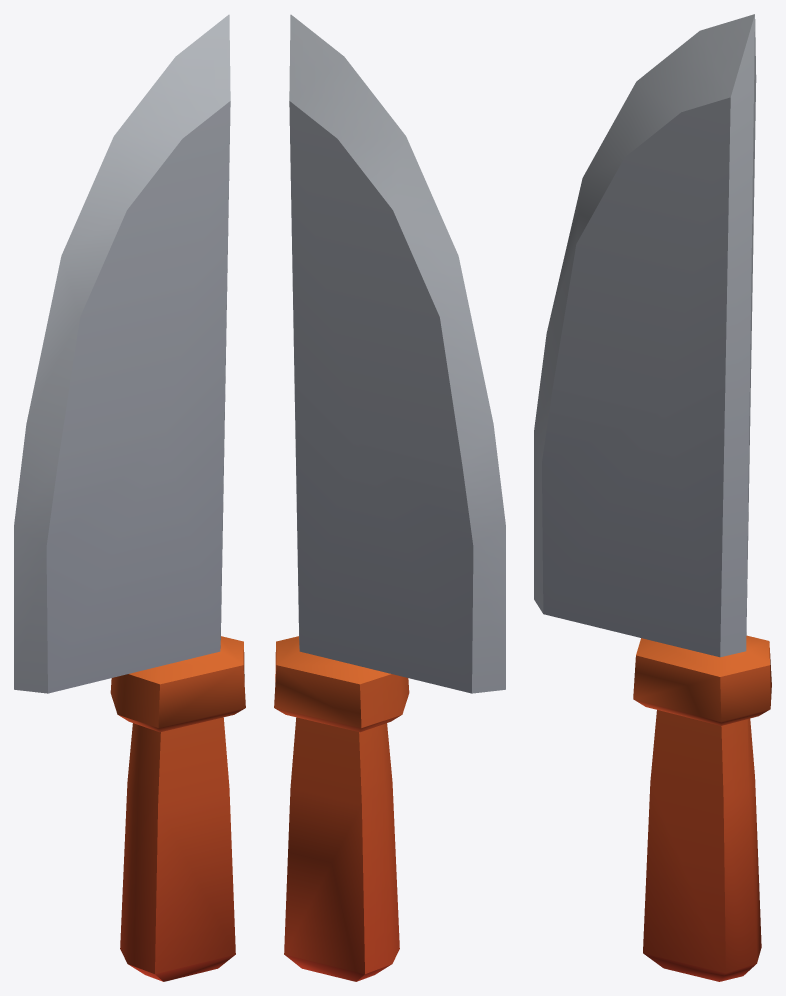
Rendered from Kitchen Knife.glb.
3 views of the same model, side by side, from view 1: azimuth 30°, elevation 25°; view 2: azimuth 150°, elevation 25°; view 3: azimuth 330°, elevation 25° (orthographic). The views are drawn at different scales.
Parts seen in each view (by area): view 1: knife; view 2: knife; view 3: knife.
Part boxes in pixels (x1,y1,x2,y2): knife: (14, 14, 245, 981); knife: (274, 14, 505, 981); knife: (534, 14, 771, 981).
Size of the model in its own units: 0.2676 by 1.04 by 0.0991.
1 material, 1 textured.
